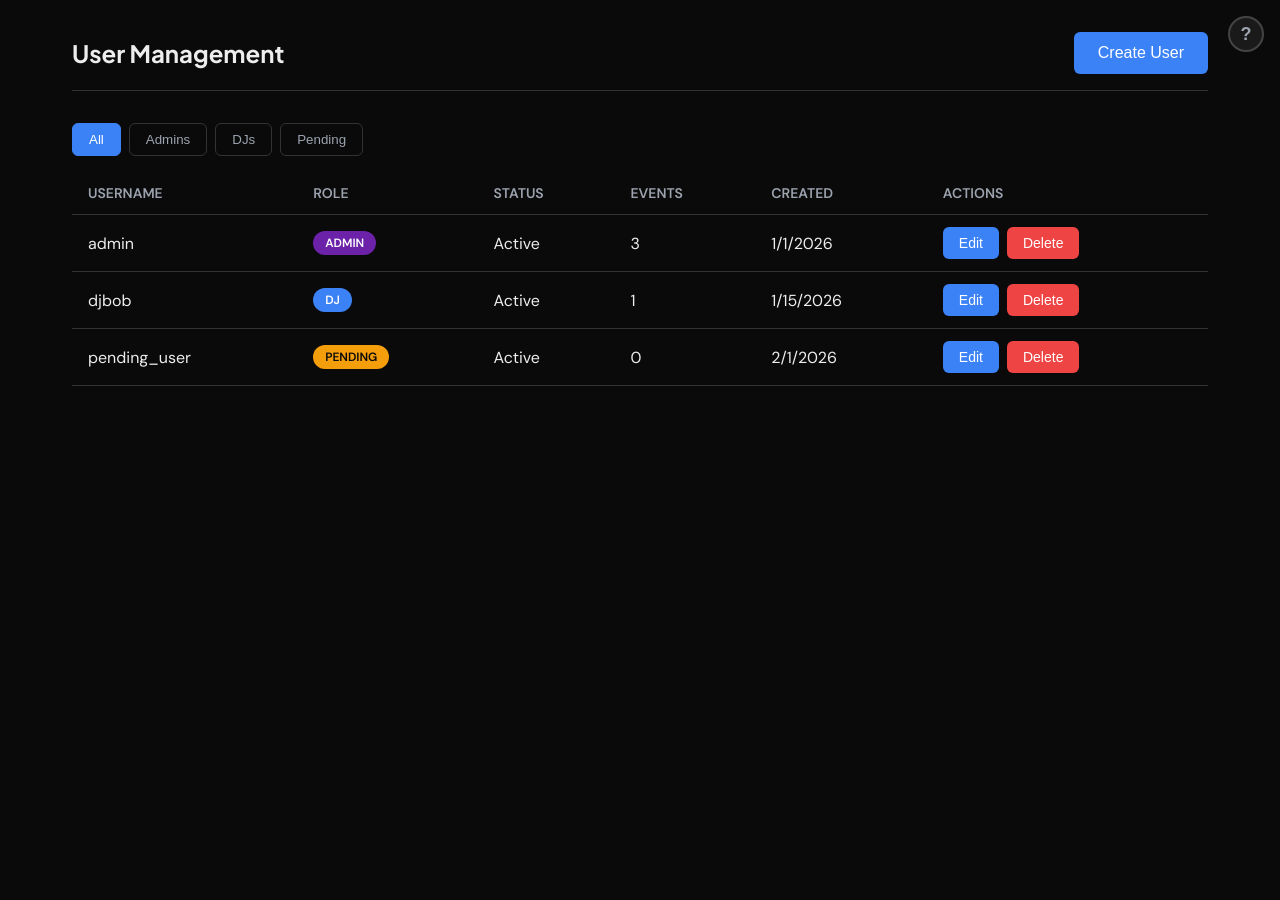
it: AdminUsersPage › shows error when create user fails
Check: the text "djbob" is shown, box left=72, top=272, right=297, bottom=328
Click the button "Create User". click: (1141, 53)
box: left=1074, top=32, right=1208, bottom=74
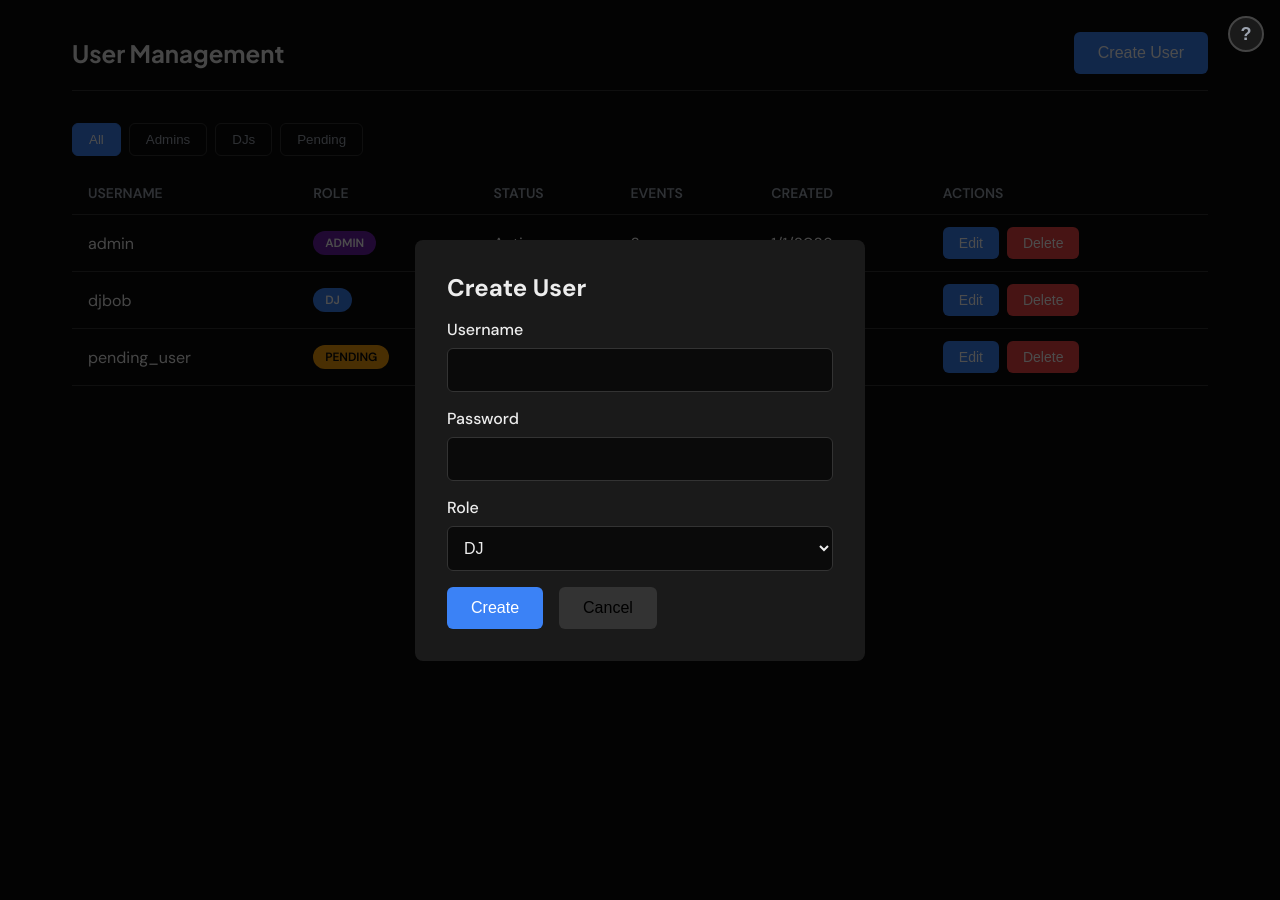
Type "dup" into the field labelled "Username". click: (640, 370)
box: left=447, top=348, right=833, bottom=392
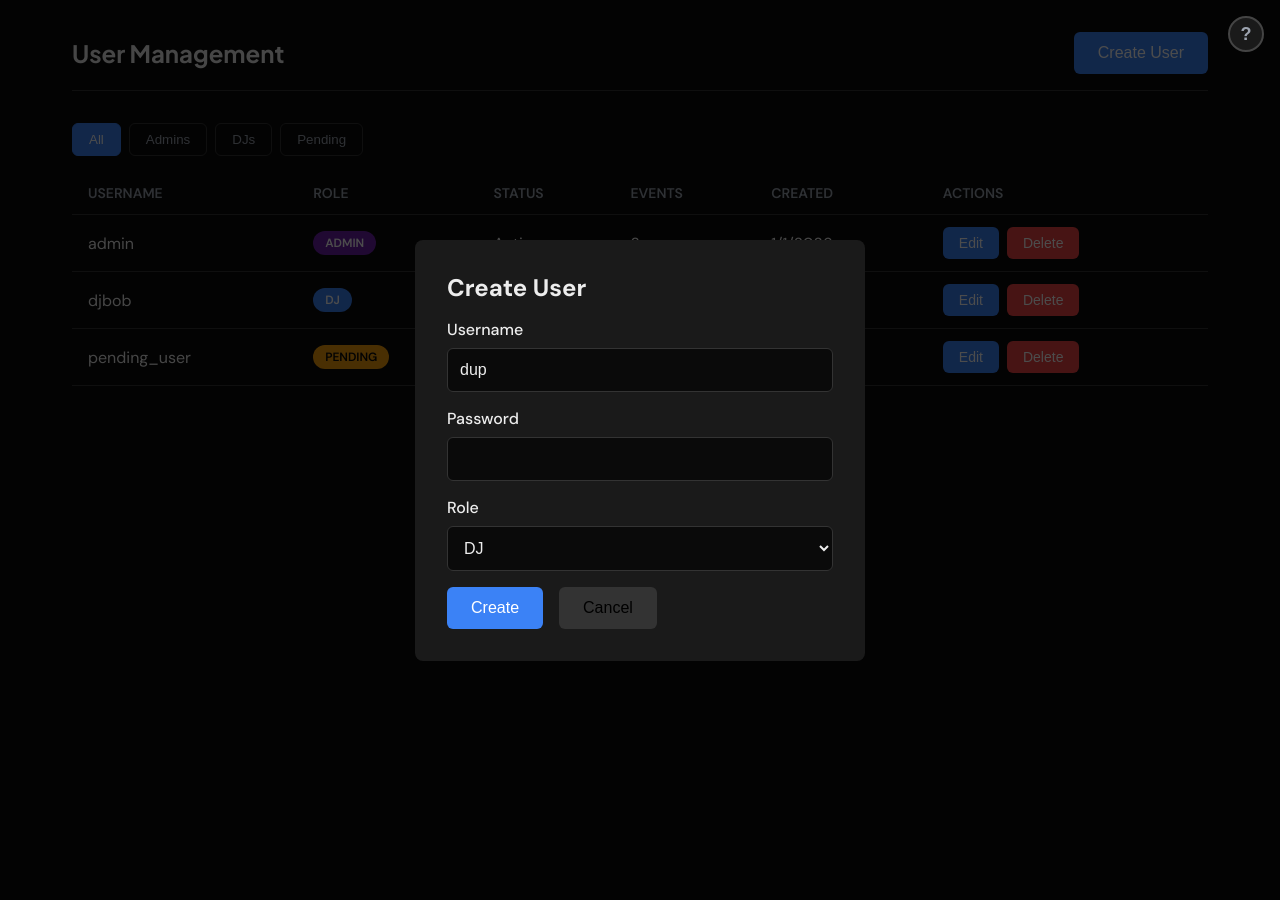
Type "password123" into the password field labelled "Password". click: (640, 458)
box: left=447, top=436, right=833, bottom=480
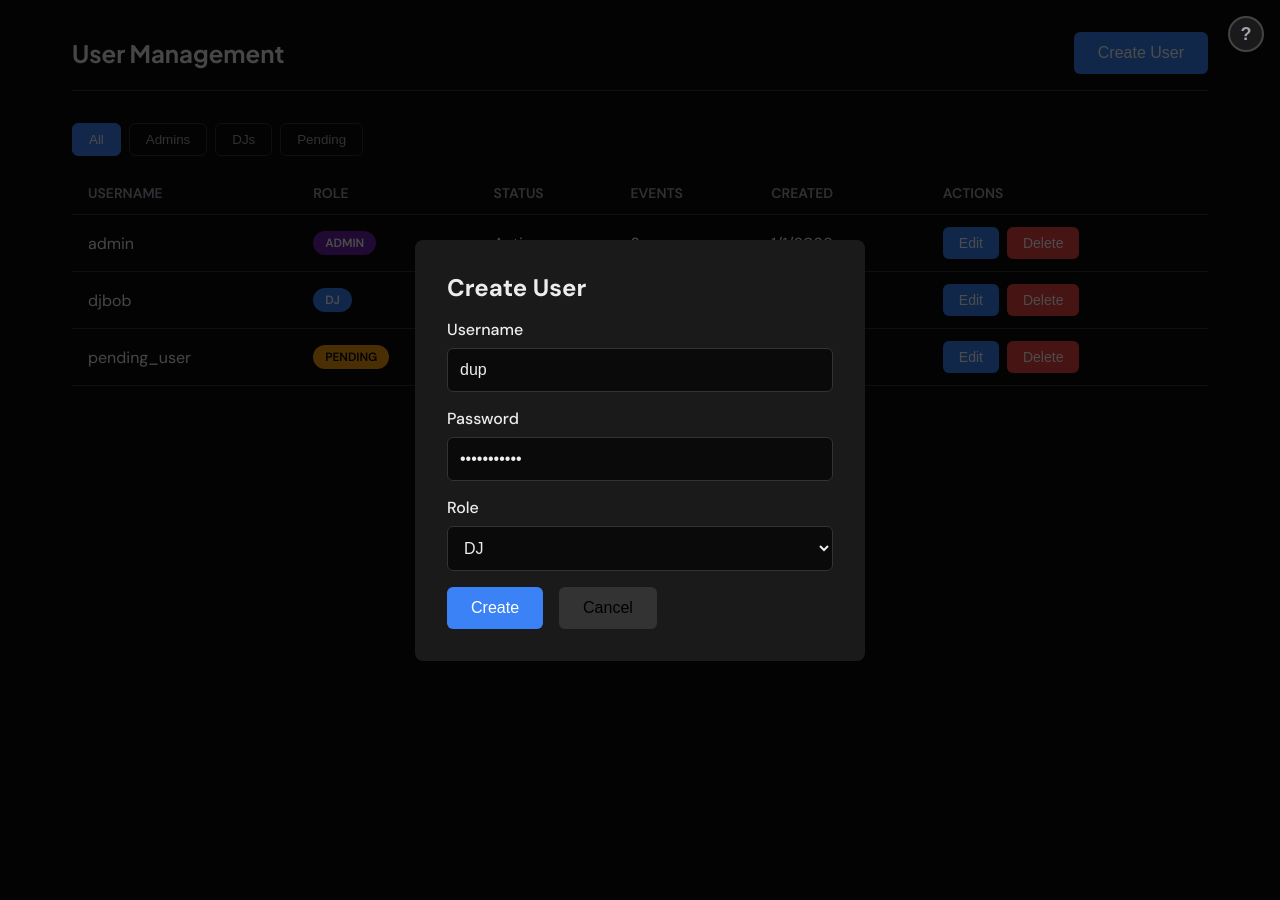
Submit the form from the button "Create", box left=447, top=586, right=543, bottom=628
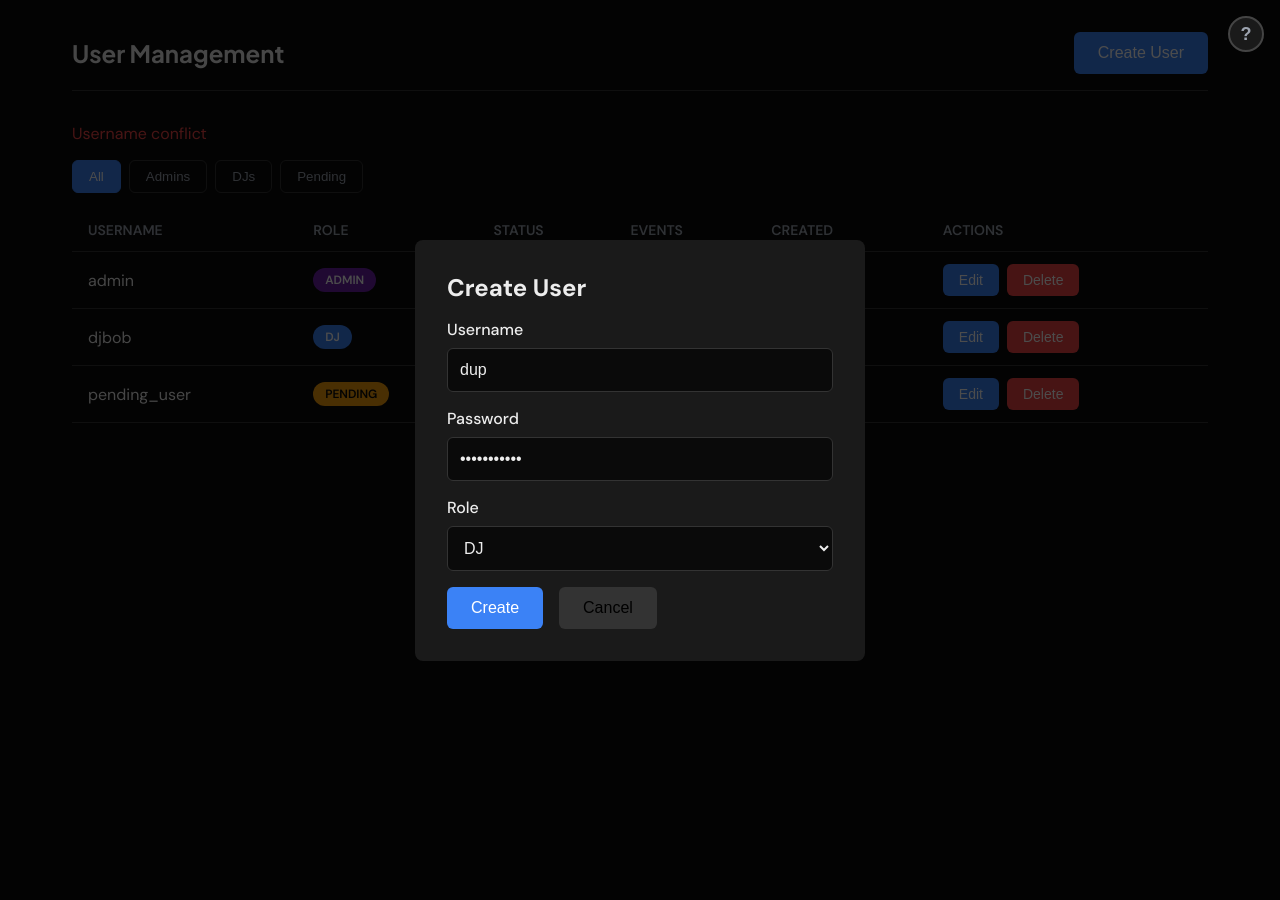
Check: the text "Username conflict" is shown, box left=72, top=123, right=207, bottom=144
